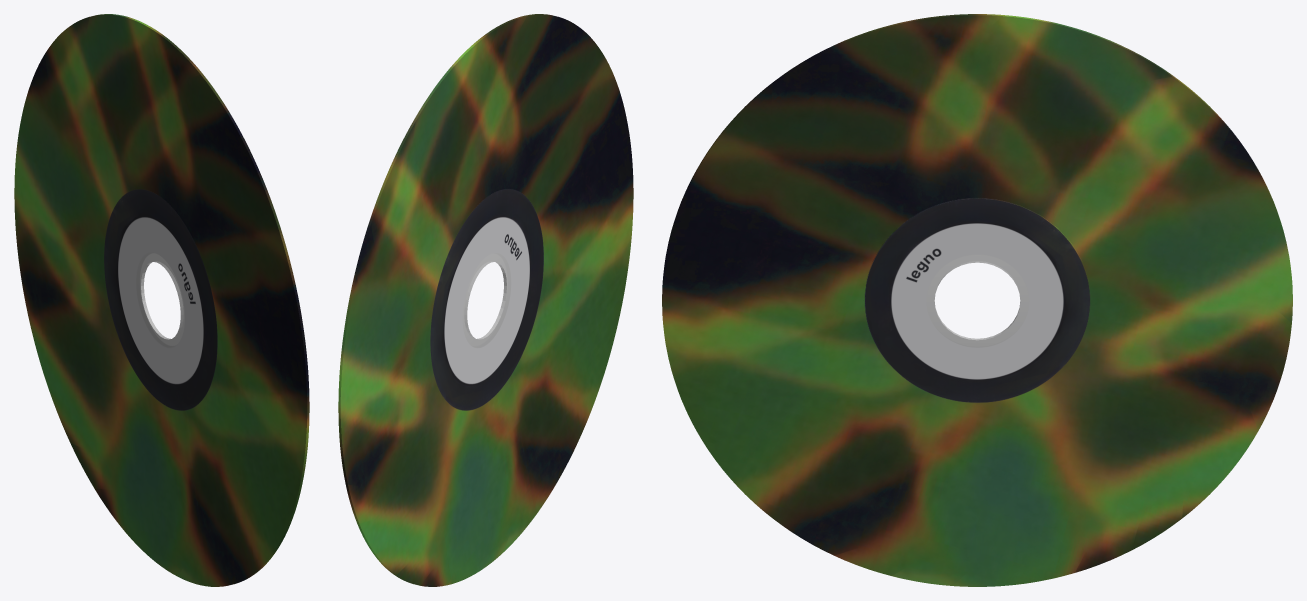
Rendered from CD_Legno.glb.
The picture shows the model from 3 angles, left to right: view 1: azimuth 30°, elevation 25°; view 2: azimuth 150°, elevation 25°; view 3: azimuth 270°, elevation 25°; orthographic projection. The views are drawn at different scales.
Parts seen in each view (by area): view 1: CD; view 2: CD; view 3: CD.
Boxes of the visible parts, x1,y1,x2,y2 form: CD: (14, 14, 309, 586); CD: (338, 14, 633, 586); CD: (662, 14, 1292, 586).
Bounding box in the file's own units: 0.0111 × 1.87 × 1.87.
2 materials, 2 textured.
